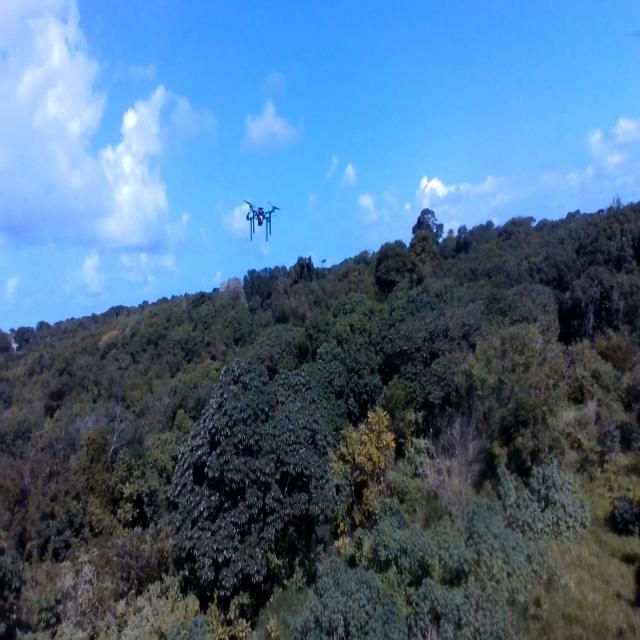-uav-: (235, 184, 290, 255)
